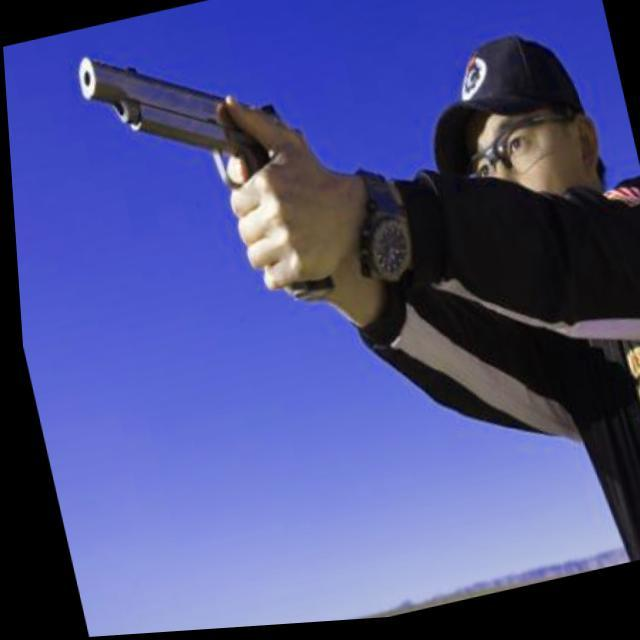weapon: (58, 1, 348, 353)
